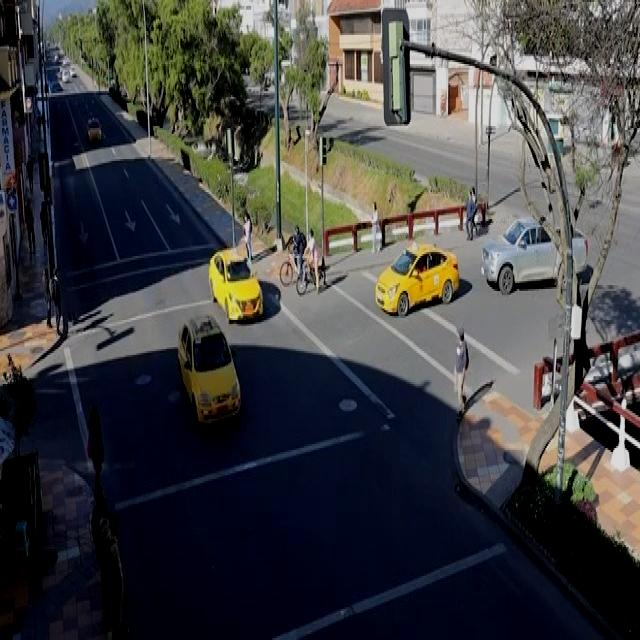CMT: (480, 221, 589, 295)
